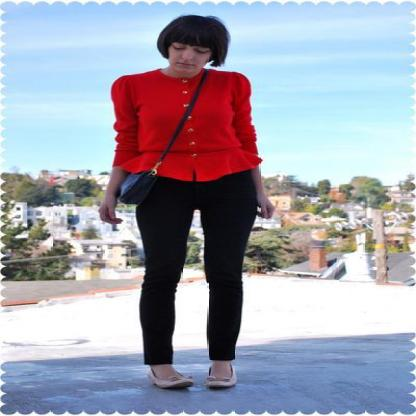bag: (108, 164, 154, 206)
pants: (136, 169, 265, 365)
shirt: (111, 69, 261, 181)
shoe: (162, 382, 234, 392)
